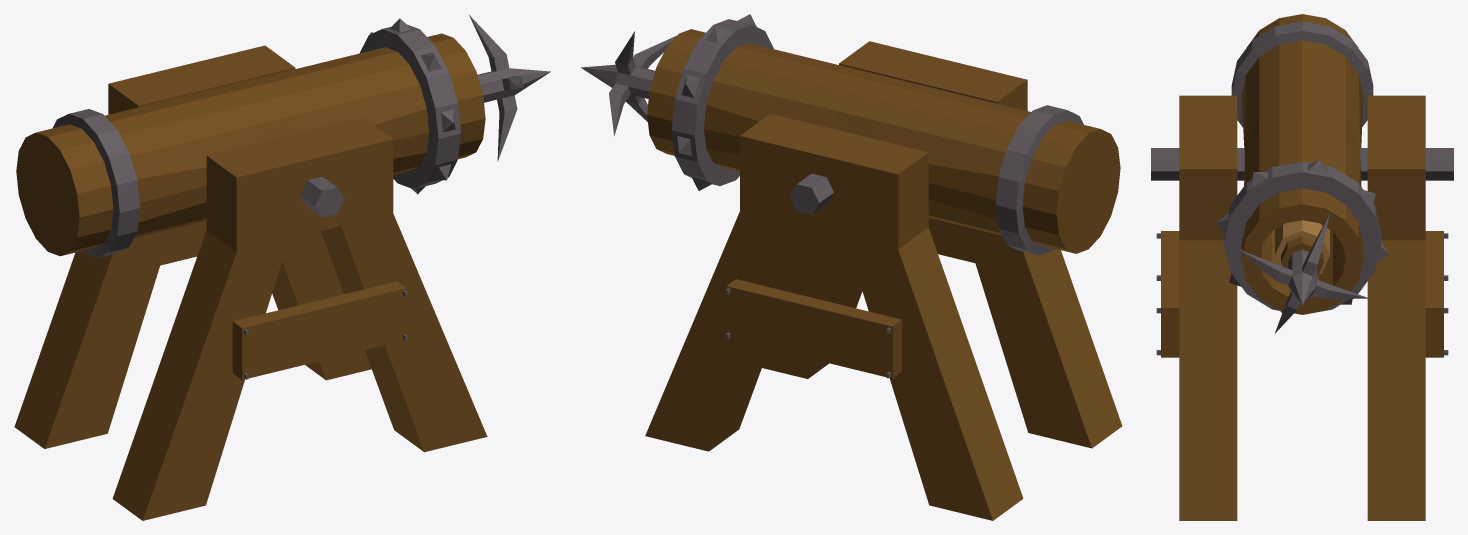
The model's file is TrapHarpoonGun.glb.
3 views of the same model, side by side, from view 1: azimuth 30°, elevation 25°; view 2: azimuth 150°, elevation 25°; view 3: azimuth 270°, elevation 25° (orthographic). The views are drawn at different scales.
Parts seen in each view (by area): view 1: HarpoonLegs, HarpoonHull, HarpoonArrow; view 2: HarpoonLegs, HarpoonHull, HarpoonArrow; view 3: HarpoonLegs, HarpoonHull, HarpoonArrow.
Boxes of the visible parts, x1,y1,x2,y2 form: HarpoonLegs: (14, 45, 487, 520); HarpoonHull: (16, 18, 485, 257); HarpoonArrow: (469, 15, 550, 161); HarpoonLegs: (645, 41, 1122, 520); HarpoonHull: (647, 14, 1120, 255); HarpoonArrow: (581, 31, 676, 135); HarpoonLegs: (1156, 95, 1448, 520); HarpoonHull: (1151, 14, 1453, 314); HarpoonArrow: (1235, 213, 1368, 333).
Bounding box in the file's own units: 1.29 × 0.899 × 0.6964.
